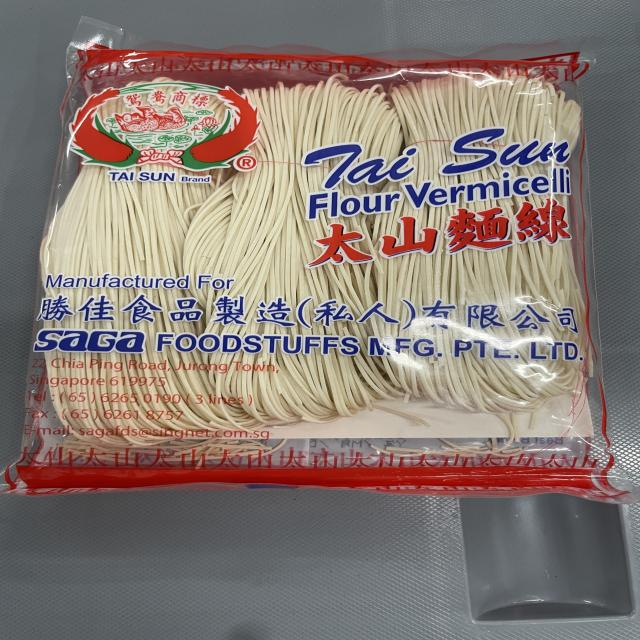object_name: (62, 50, 571, 485)
